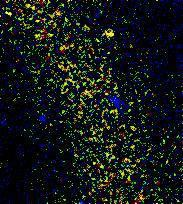star: (92, 17, 122, 47)
